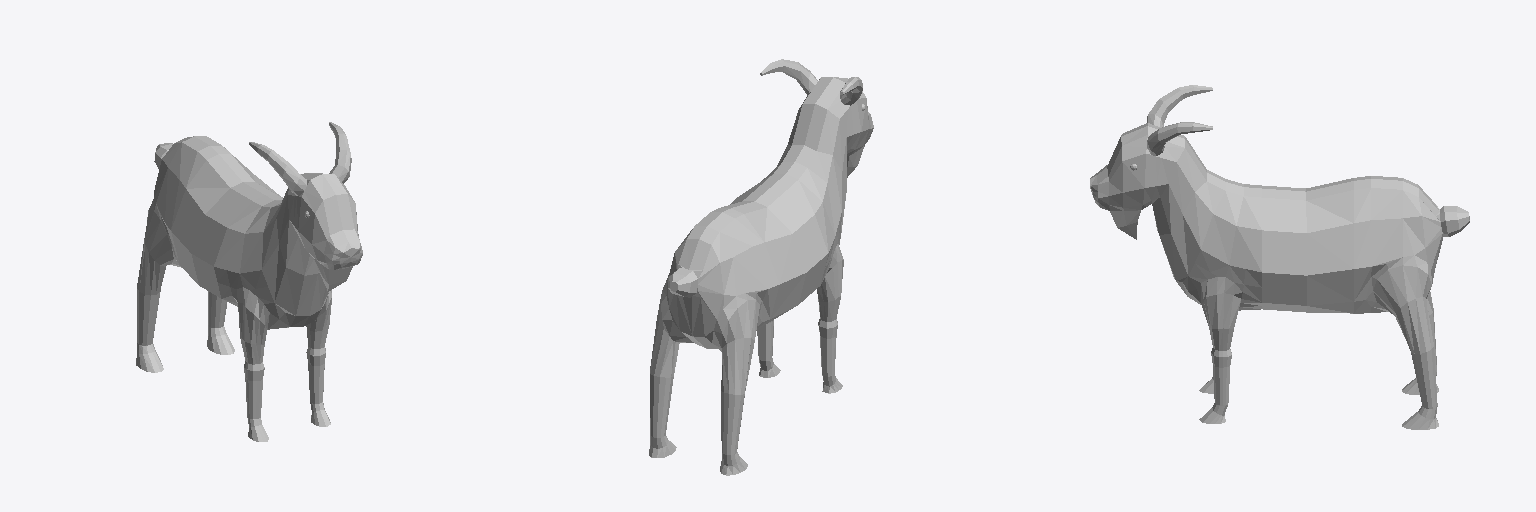
File: goat.obj
3 renders of one model, left to right at view 1: azimuth 30°, elevation 25°; view 2: azimuth 150°, elevation 25°; view 3: azimuth 270°, elevation 25°, orthographic.
Visible parts, largest first — view 1: Plane; view 2: Plane; view 3: Plane.
Part boxes in pixels (left/top/right/bottom): Plane: left=136, top=122, right=362, bottom=441; Plane: left=649, top=59, right=873, bottom=475; Plane: left=1090, top=85, right=1469, bottom=429.
Size of the model in its own units: 2.5 by 7.03 by 7.97.